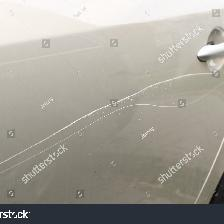door_scratch: (2, 57, 224, 177)
